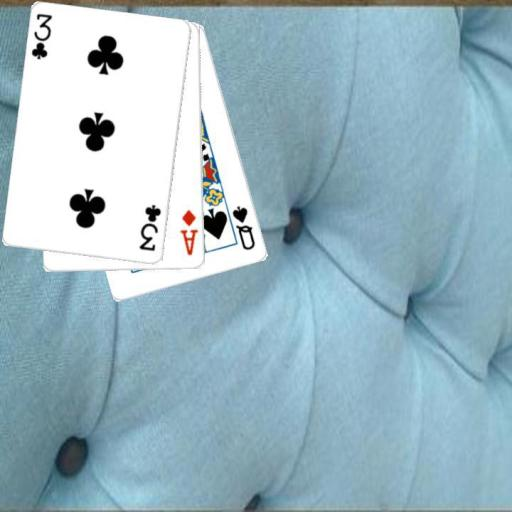3C: (136, 202, 163, 253), (28, 11, 54, 62)
AD: (178, 207, 200, 257)
QS: (229, 203, 257, 252)
